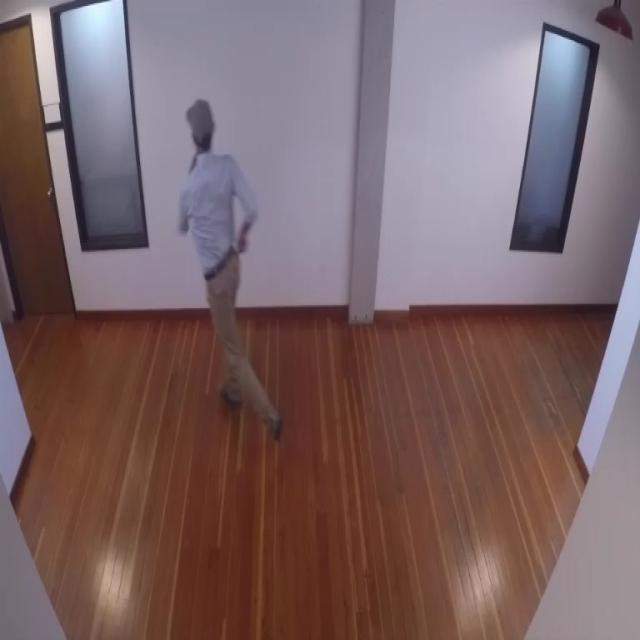Stupid: (178, 98, 282, 441)
